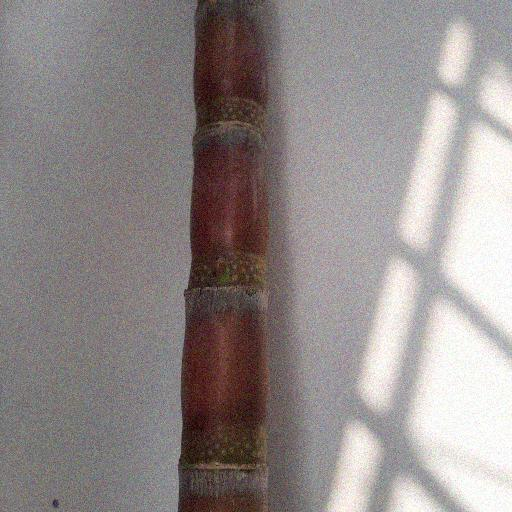Bud: (210, 255, 230, 282)
